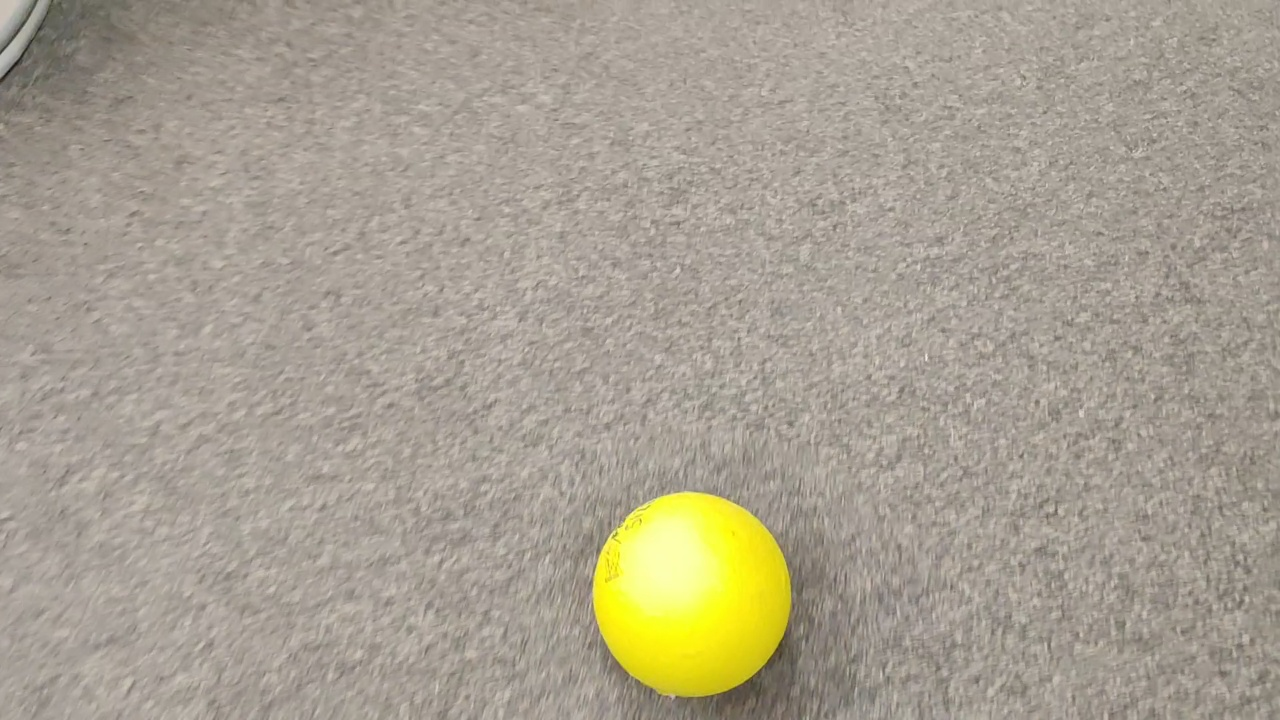Ball: (594, 493, 788, 697)
